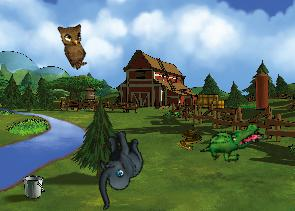crocodile: (198, 109, 266, 175)
elephant: (80, 126, 155, 210)
owl: (52, 17, 99, 71)
